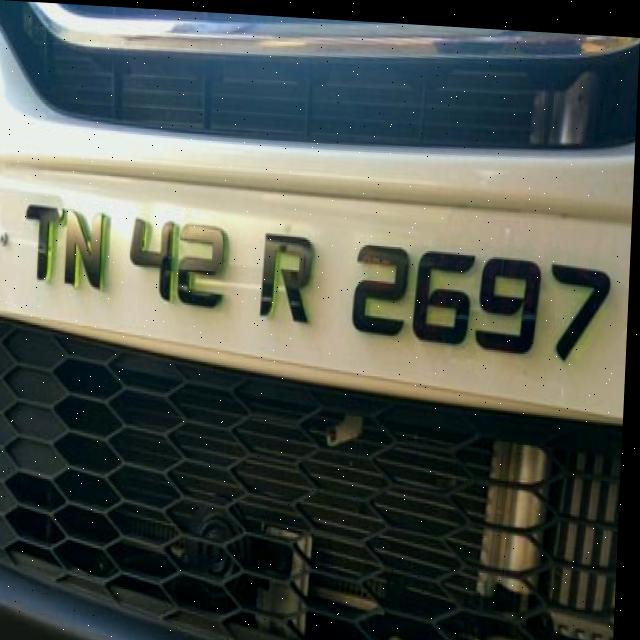plate: (0, 165, 634, 414)
